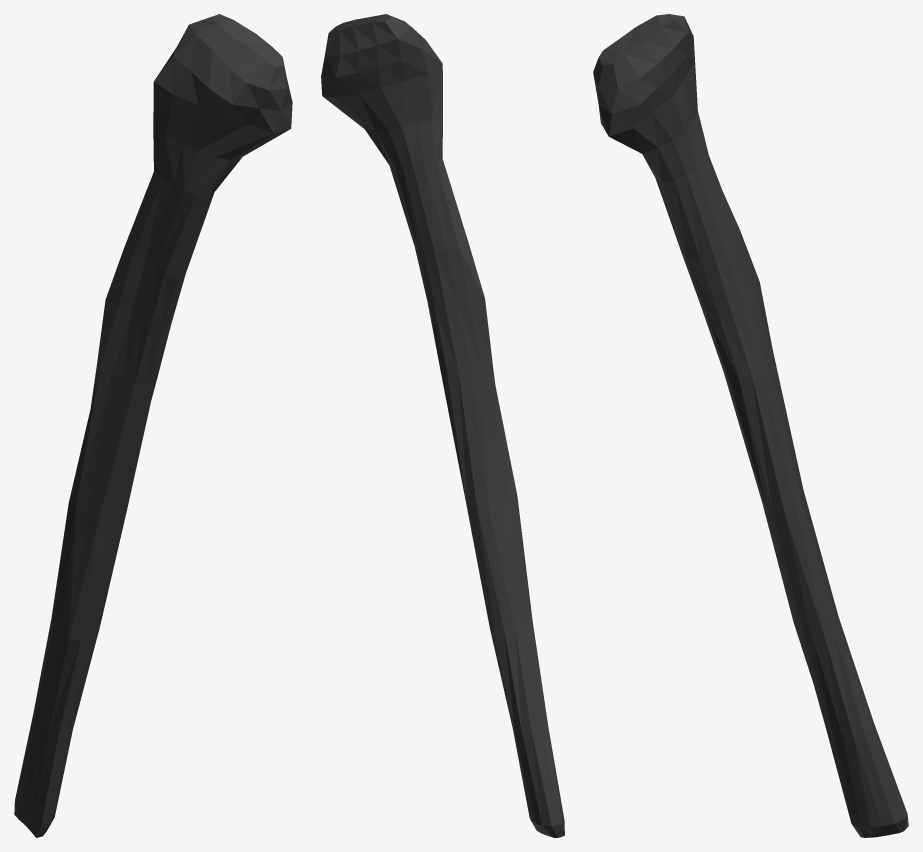
Rendered from Fibula.glb.
3 renders of one model, left to right at view 1: azimuth 30°, elevation 25°; view 2: azimuth 210°, elevation 25°; view 3: azimuth 270°, elevation 25°, orthographic. The views are drawn at different scales.
Visible parts, largest first — view 1: Fibula; view 2: Fibula; view 3: Fibula.
Boxes of the visible parts, box(x1,y1,x2,y2) form: Fibula: box(14, 14, 292, 837); Fibula: box(321, 14, 564, 837); Fibula: box(593, 14, 908, 837).
Bounding box in the file's own units: 0.1328 × 0.8368 × 0.2793.
1 material, 1 textured.
